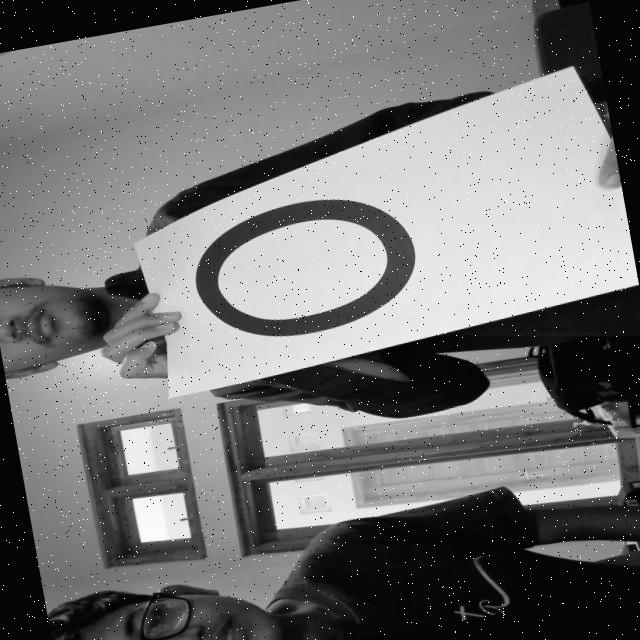o: (154, 172, 450, 364)
